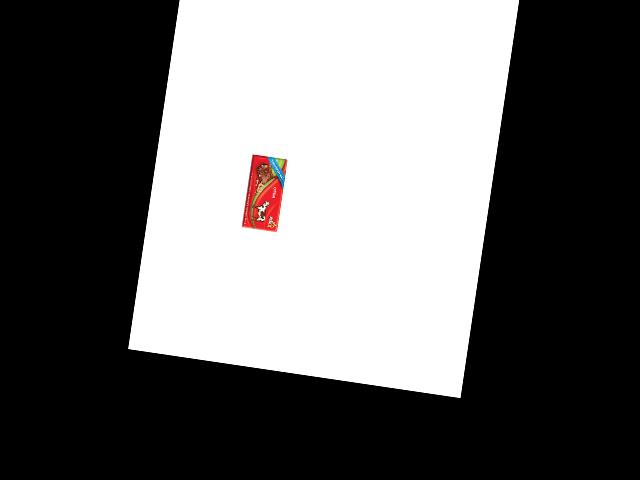chocolate: (242, 155, 287, 235)
